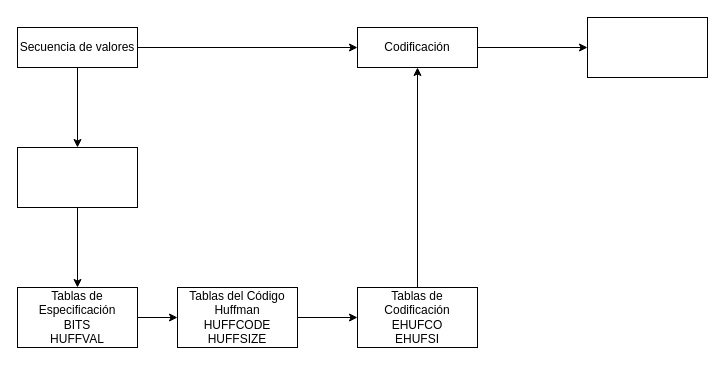
This 725x365 diagram has some shape labels left out. Each missing label, with the box of its shape:
Frecuancias de Valores FREQ: (16, 146, 138, 208)
Secuencia Comprimida: (586, 16, 708, 78)
